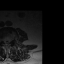CCS_normal: (6, 39, 7, 46)
LFS_normal: (9, 38, 11, 44)
LLS_normal: (7, 39, 9, 45)
RFS_severe_stenosis: (2, 38, 4, 44)
RLS_normal: (4, 39, 6, 45)
